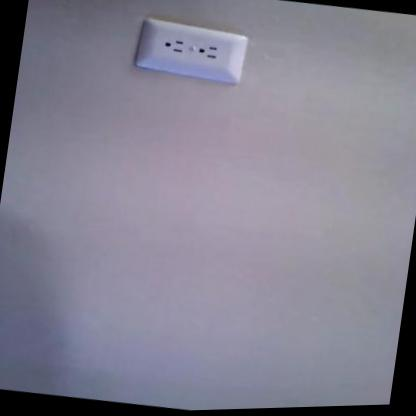OUTLET: (136, 18, 246, 82)
